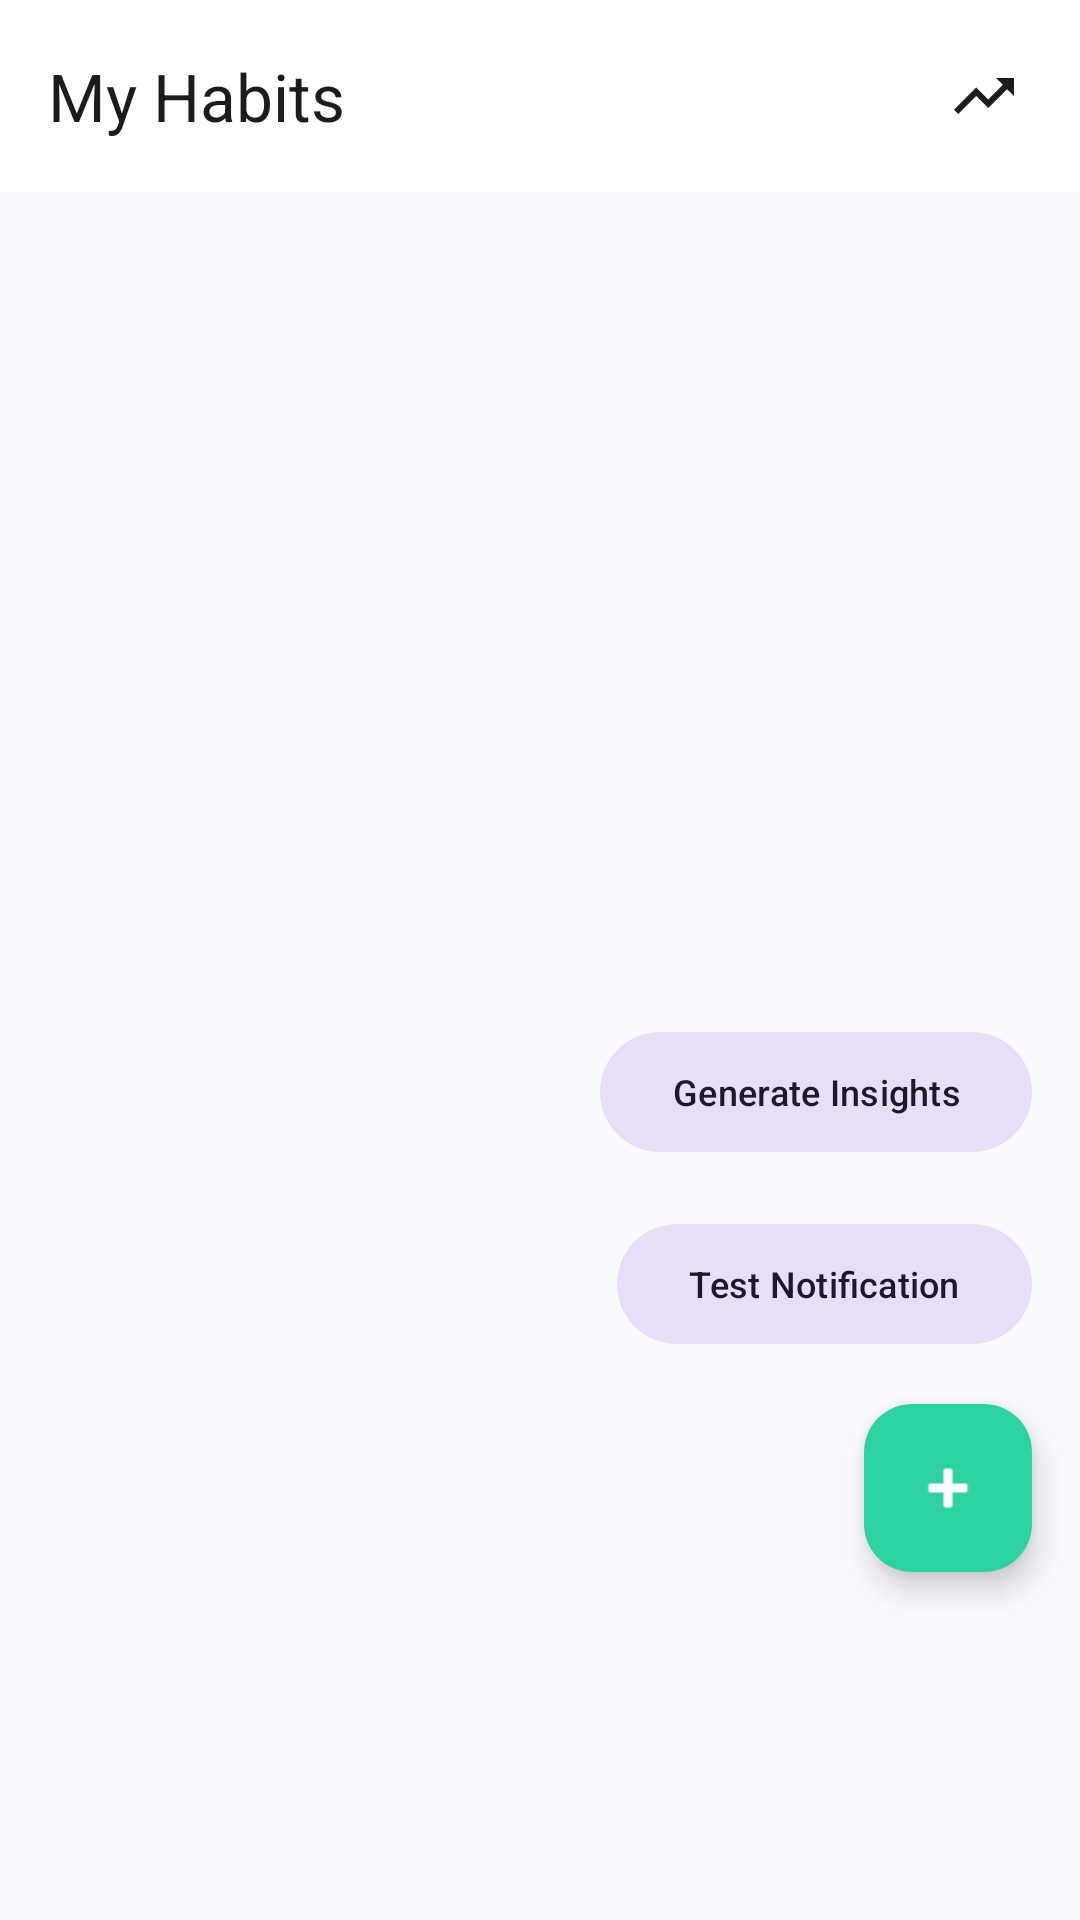

Icons on this 1080 x 1920 Android screen, each with the point to tap as point (x, y):
Add Habit: point (948, 1488)
Insights: point (984, 96)
